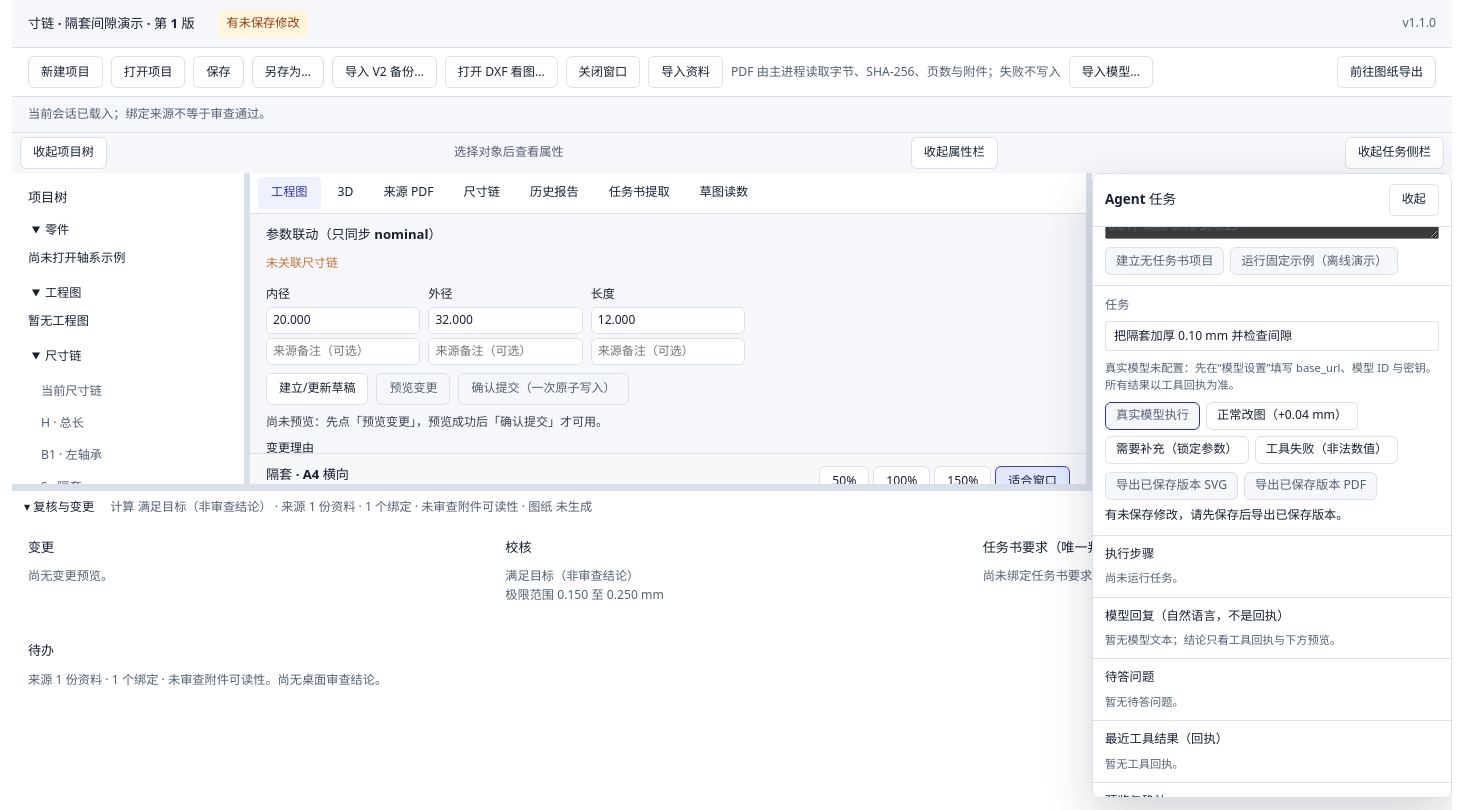
it: S05 工作台实时传递 dirty 原因；保存后恢复，不自动保存
This screenshot has width=1464, height=810.
Later steps or results of the test are not shown.
(page scrolled)
Expected: the text "有未保存修改" is shown, x1=219 y1=10 x2=308 y2=37
Expected: the text "有未保存修改，请先保存后导出已保存版本。" is shown, x1=1105 y1=506 x2=1348 y2=525
Click the button "导出已保存版本 SVG" at {"x": 1172, "y": 486}, box x1=1105 y1=472 x2=1238 y2=500
Click the button "保存" at {"x": 219, "y": 72}, box x1=193 y1=56 x2=244 y2=88
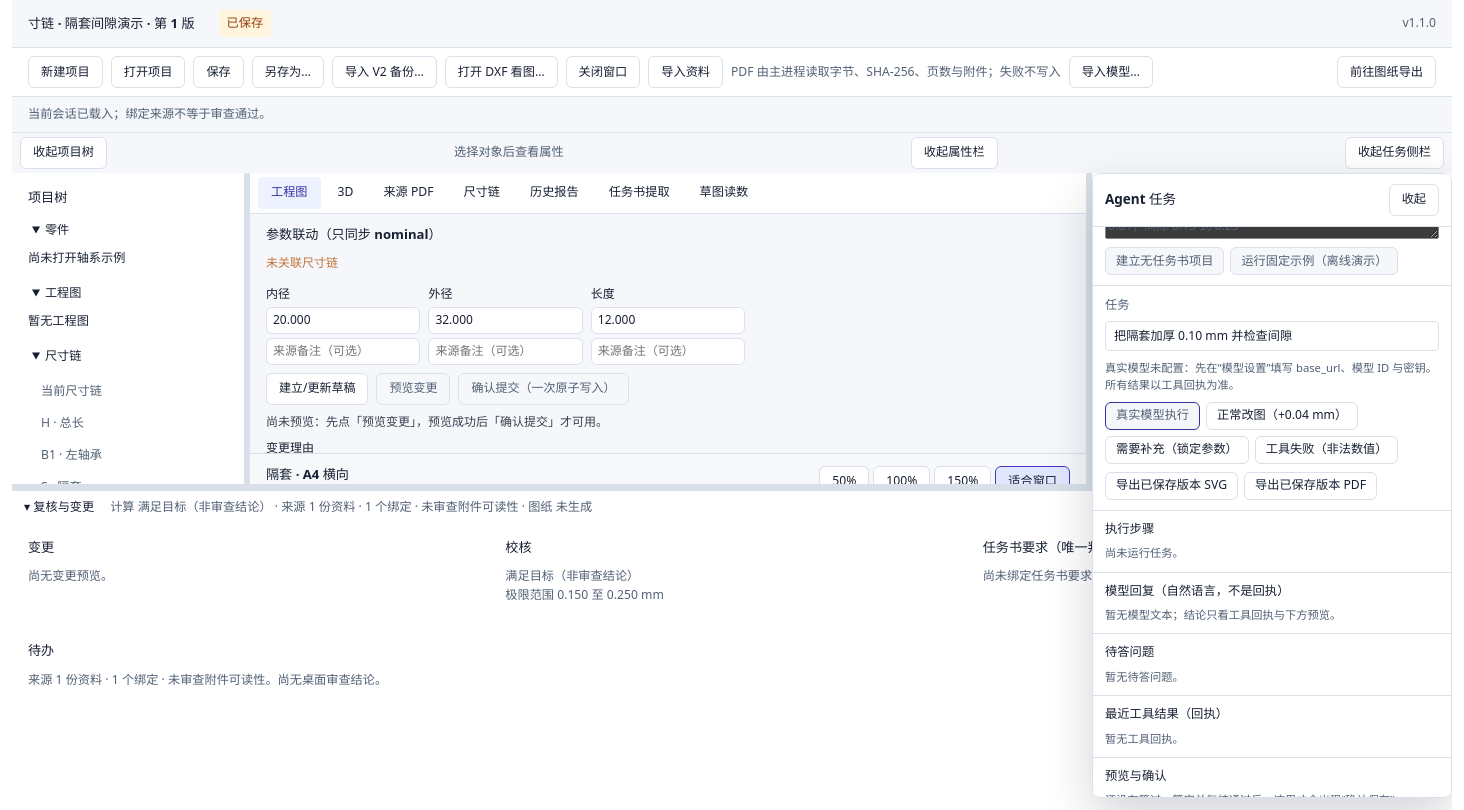
Expected: the button "导出已保存版本 SVG" is enabled, x1=1105 y1=472 x2=1238 y2=500
